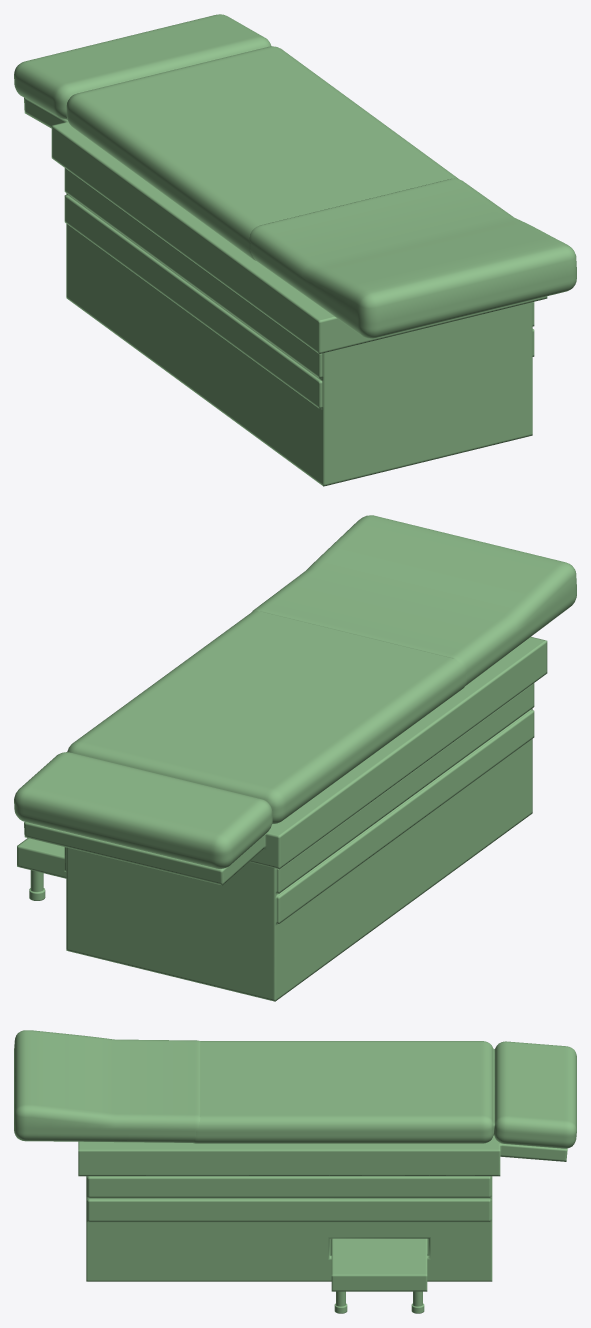
Rendered from leito2.fbx.
3 renders of one model, top to bottom at view 1: azimuth 30°, elevation 25°; view 2: azimuth 150°, elevation 25°; view 3: azimuth 270°, elevation 25°, orthographic. The views are drawn at different scales.
Visible parts, largest first — view 1: leito; view 2: leito; view 3: leito.
Part boxes in pixels (x1=…): leito: x1=14, y1=14, x2=576, y2=486; leito: x1=14, y1=515, x2=576, y2=1001; leito: x1=14, y1=1030, x2=576, y2=1313.
Size of the model in its own units: 2939 by 1998 by 5880.
